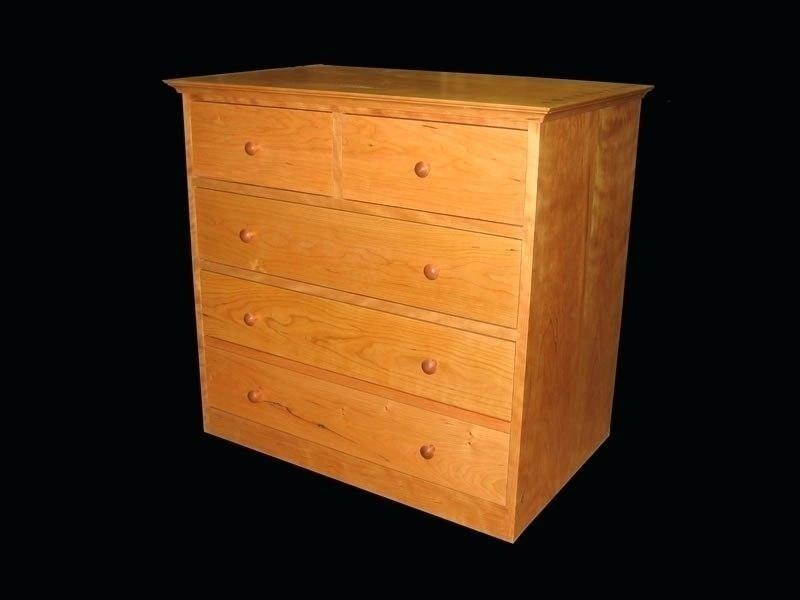cabinet_door: (199, 207, 520, 298), (208, 379, 511, 474), (204, 300, 516, 385), (338, 116, 526, 211), (192, 99, 338, 193)
handle: (232, 224, 259, 249), (416, 437, 441, 464), (417, 354, 442, 380), (420, 259, 444, 284), (411, 157, 434, 182), (240, 137, 265, 160), (236, 308, 260, 331)
